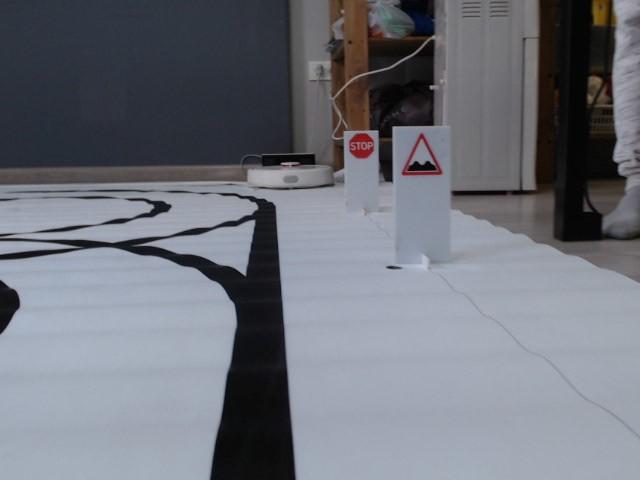Nerov: (398, 133, 443, 180)
Stop: (348, 133, 376, 158)
